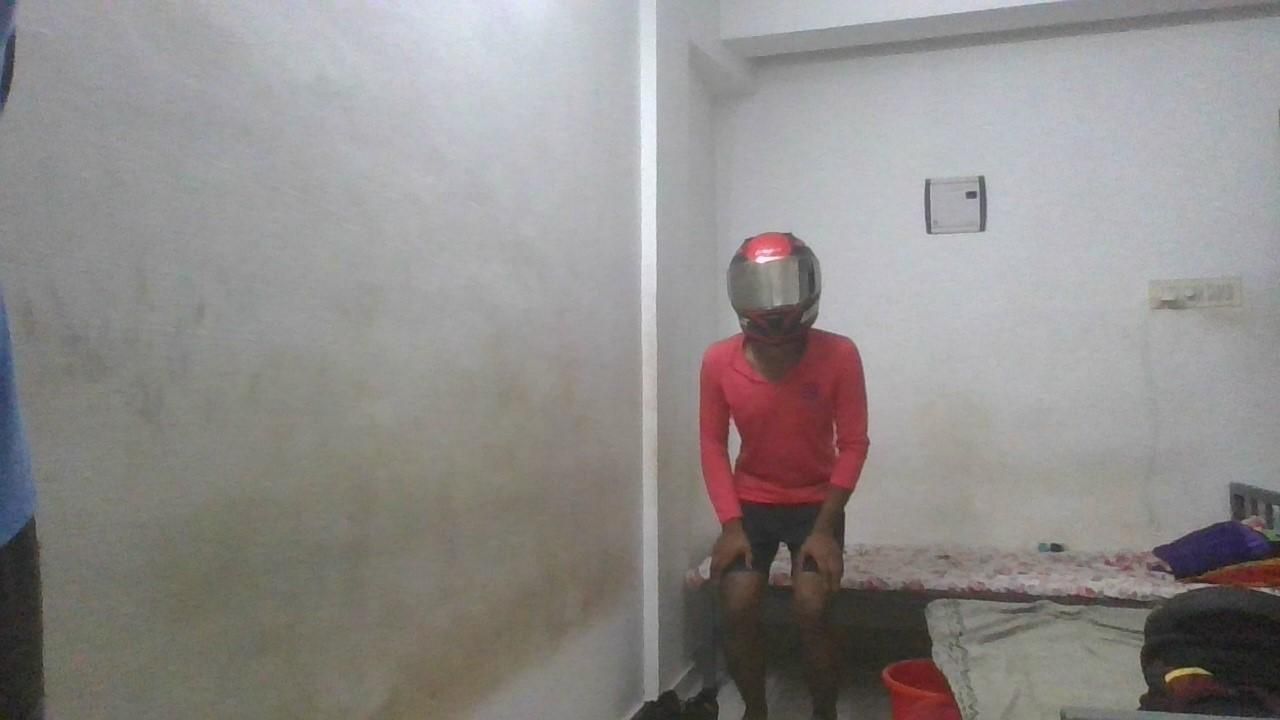helmet: (726, 231, 823, 346)
